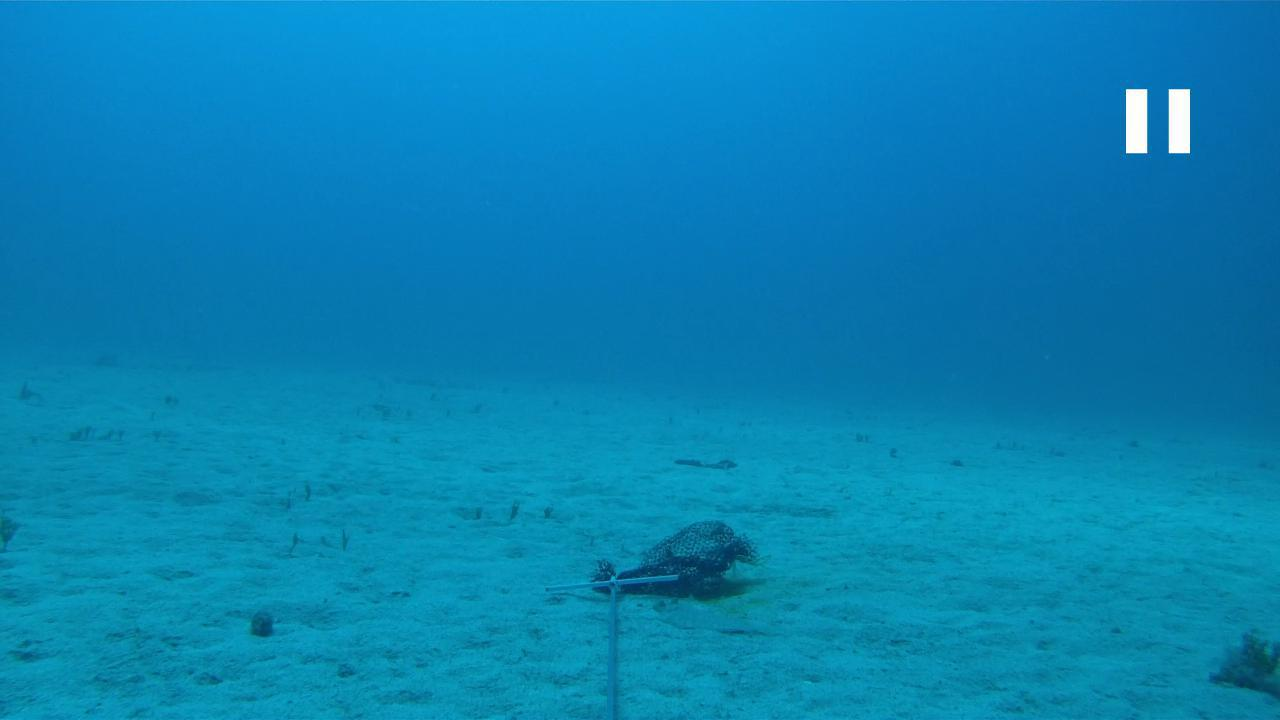bothus: (648, 596, 776, 636)
